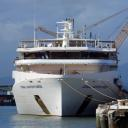cruises: (11, 19, 124, 120)
